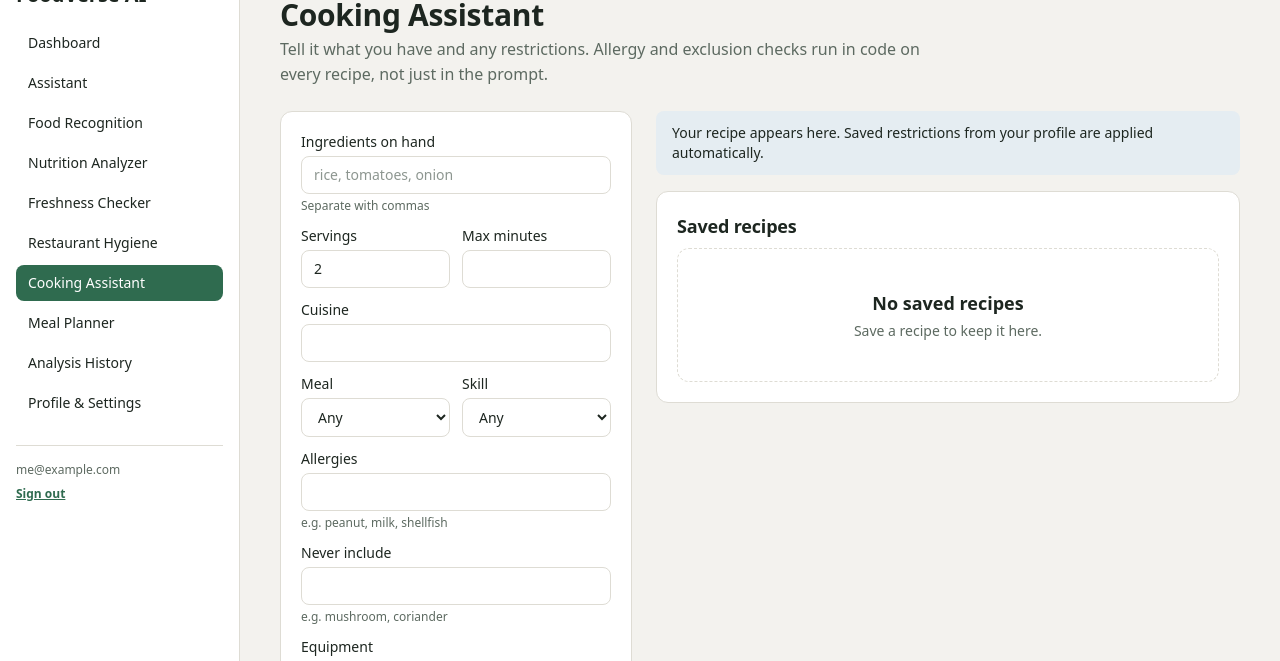
cooking assistant › generates a recipe and surfaces partial nutrition honestly
Type "rice, tomato" into the field labelled "Ingredients on hand" at (456, 175), box [301,156,611,194]
(page scrolled)
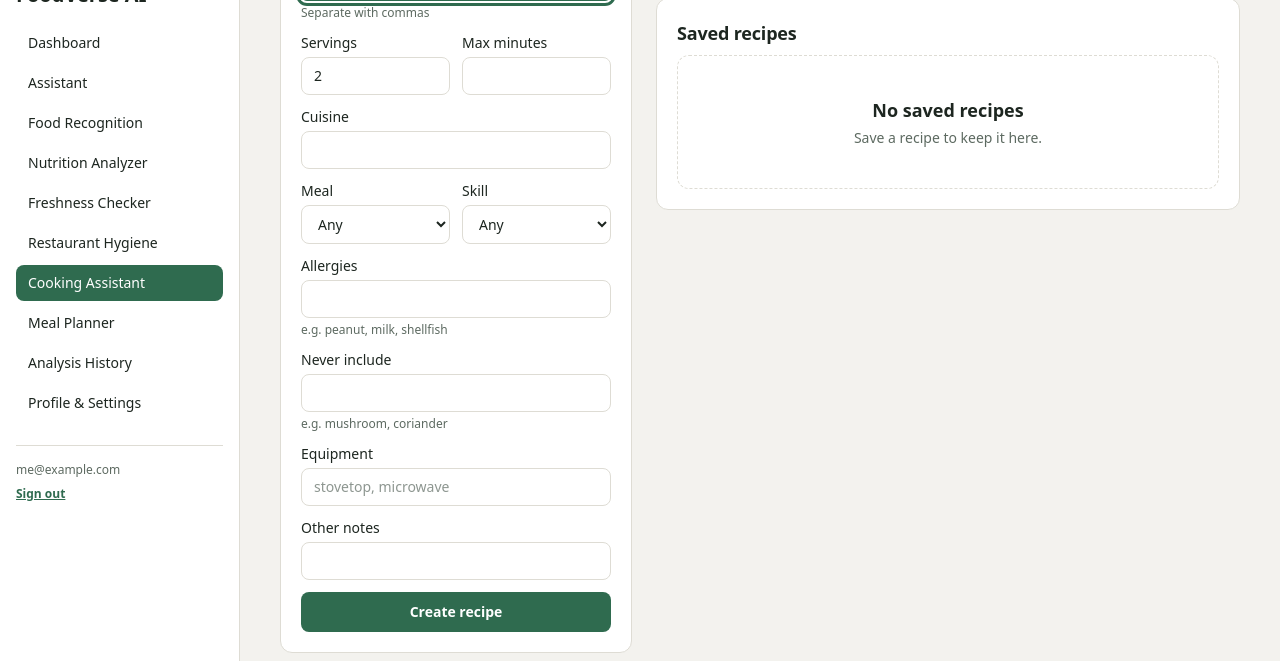
Click the button "Create recipe" at (456, 612), box [301,592,611,632]
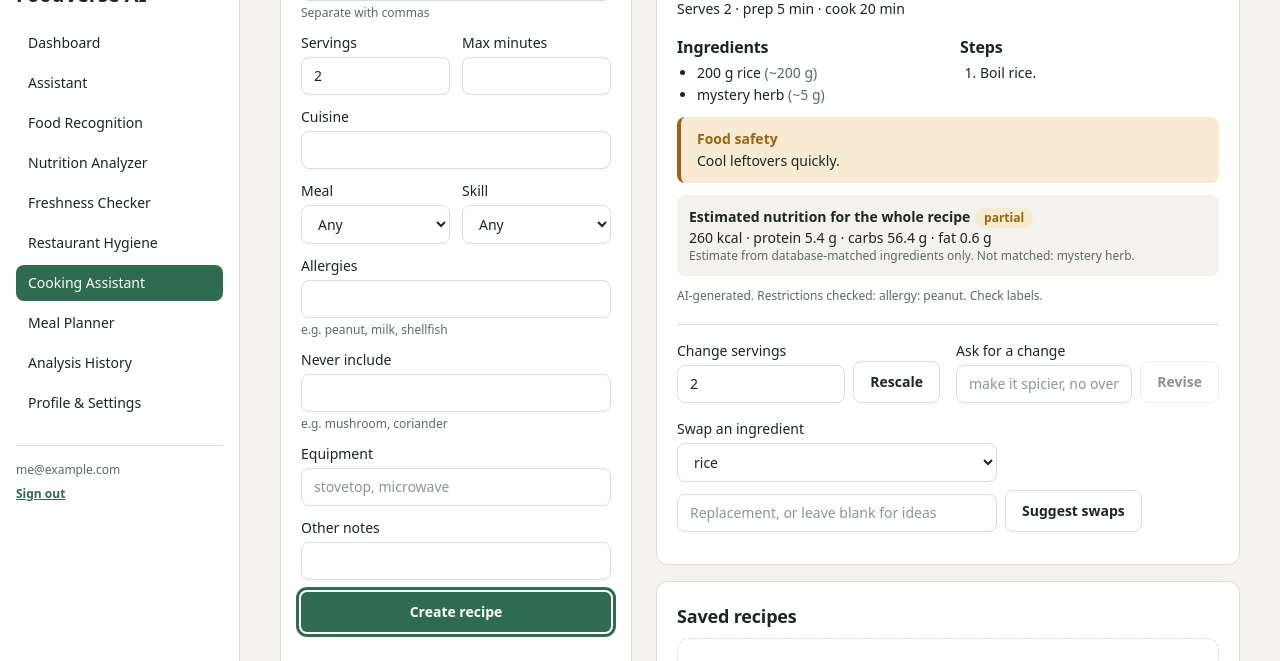
Expected: the text "partial" is shown, [974,208,1034,228]
Expected: the text "Not matched: mystery herb" is shown, [977,247,1135,264]
Expected: the text "Restrictions checked: allergy: peanut" is shown, [757,287,970,304]
